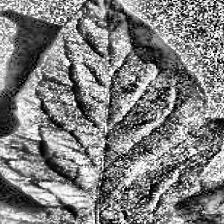Blossom Blight: (128, 132, 204, 170), (119, 62, 172, 108), (65, 117, 104, 165)
